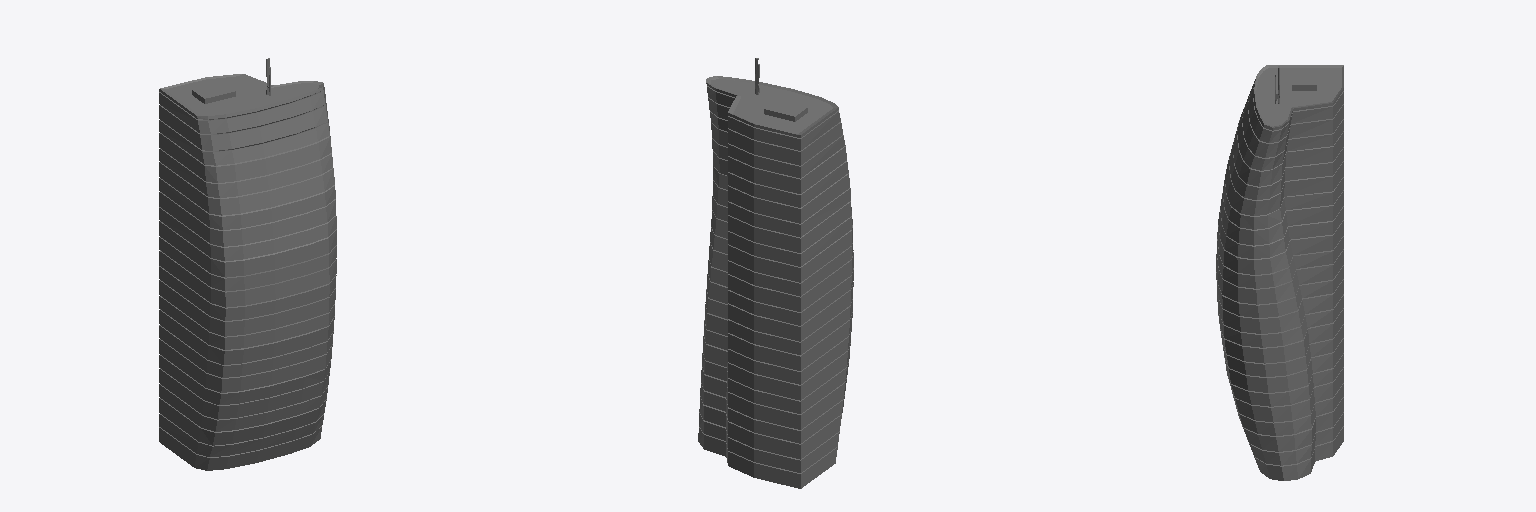
The model's file is Skyscaper4.obj.
3 views of the same model, side by side, from view 1: azimuth 30°, elevation 25°; view 2: azimuth 150°, elevation 25°; view 3: azimuth 270°, elevation 25° (orthographic).
Visible parts, largest first — view 1: Skyscaper4; view 2: Skyscaper4; view 3: Skyscaper4.
Boxes of the visible parts, <box> form: Skyscaper4: <box>159,58,336,470</box>; Skyscaper4: <box>698,58,853,488</box>; Skyscaper4: <box>1216,65,1343,480</box>.
Bounding box in the file's own units: 1607 × 4615 × 1377.